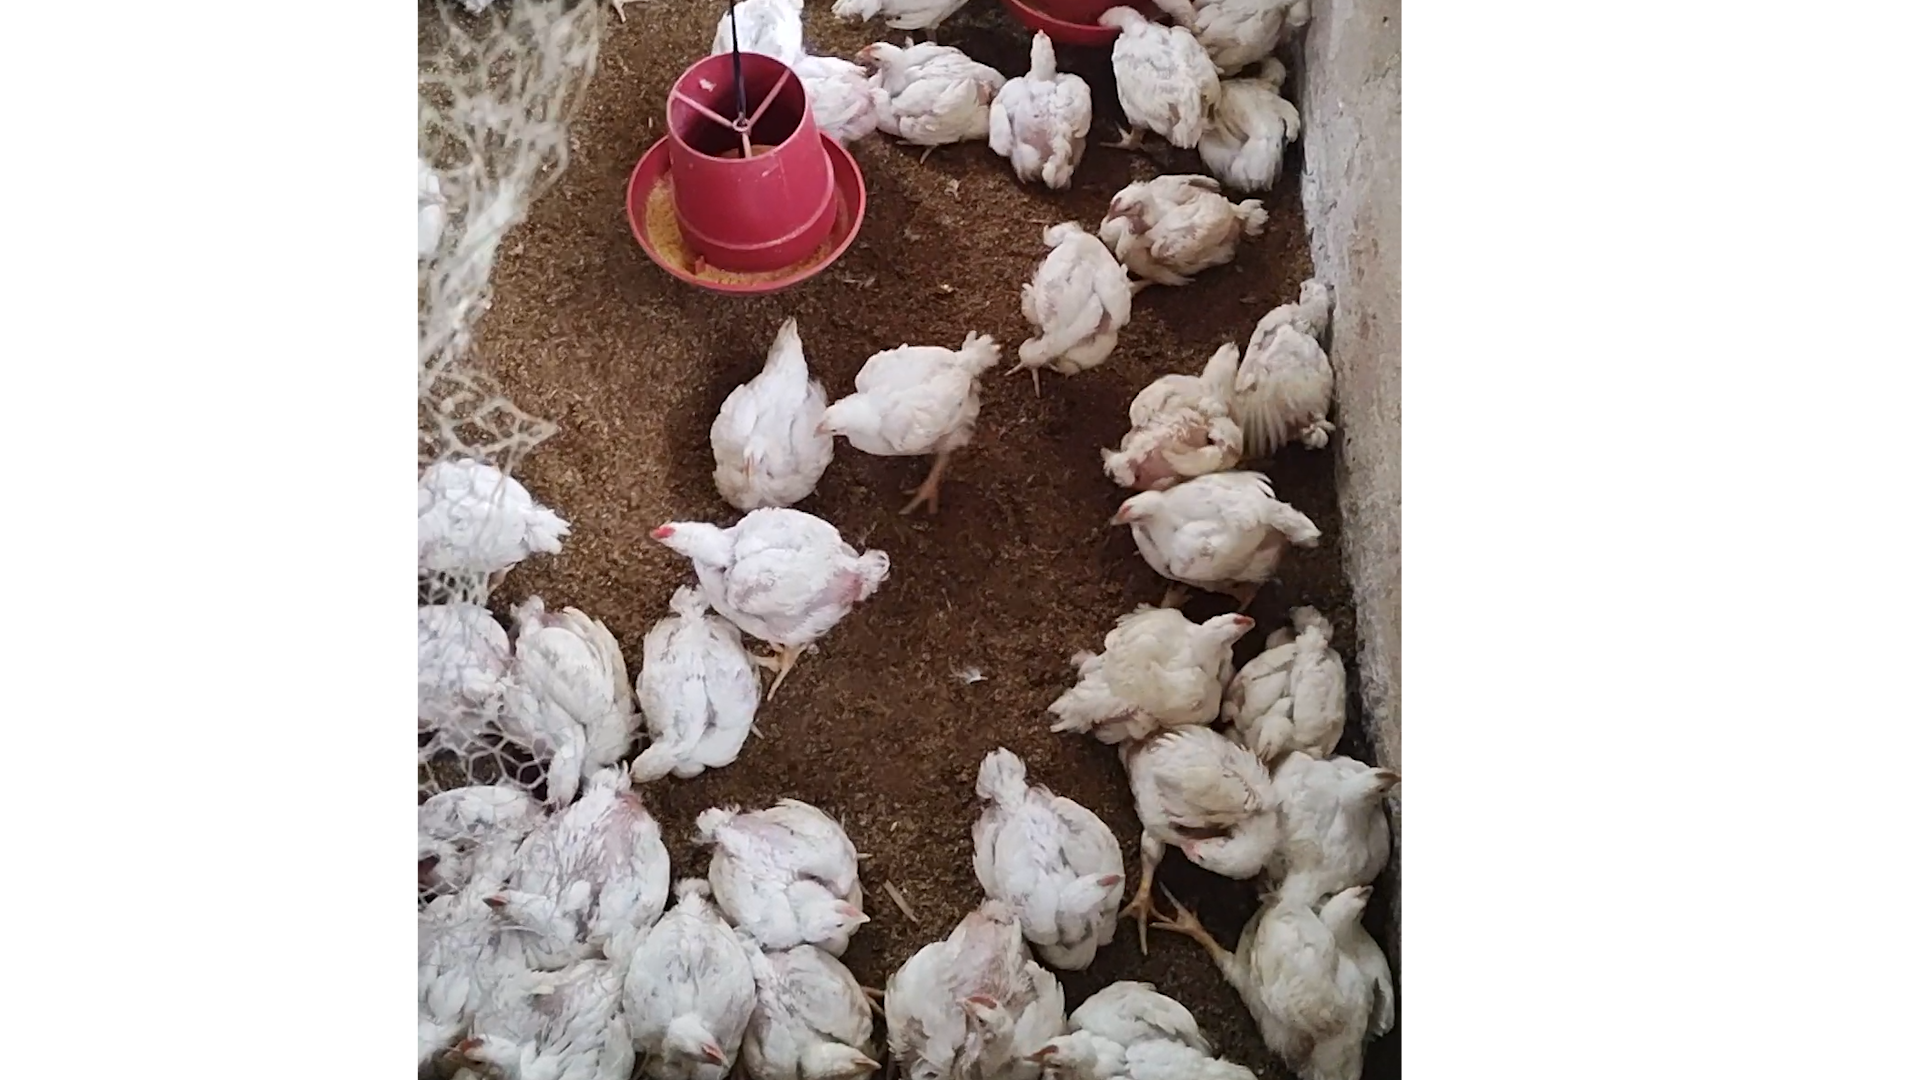Pollos: (650, 502, 885, 651), (885, 889, 1064, 1079), (491, 774, 665, 968), (971, 767, 1127, 951), (1251, 855, 1381, 1072), (1116, 719, 1294, 873), (707, 794, 881, 947), (630, 585, 760, 790), (1059, 604, 1261, 735), (800, 338, 993, 473), (626, 880, 756, 1080), (702, 314, 831, 513), (1092, 331, 1258, 485), (1100, 467, 1302, 587), (444, 951, 632, 1075), (1023, 982, 1251, 1080), (736, 931, 882, 1080), (1218, 604, 1358, 758), (512, 597, 636, 767), (400, 450, 553, 578), (1242, 273, 1346, 450), (1273, 749, 1404, 886), (1004, 262, 1127, 378)
